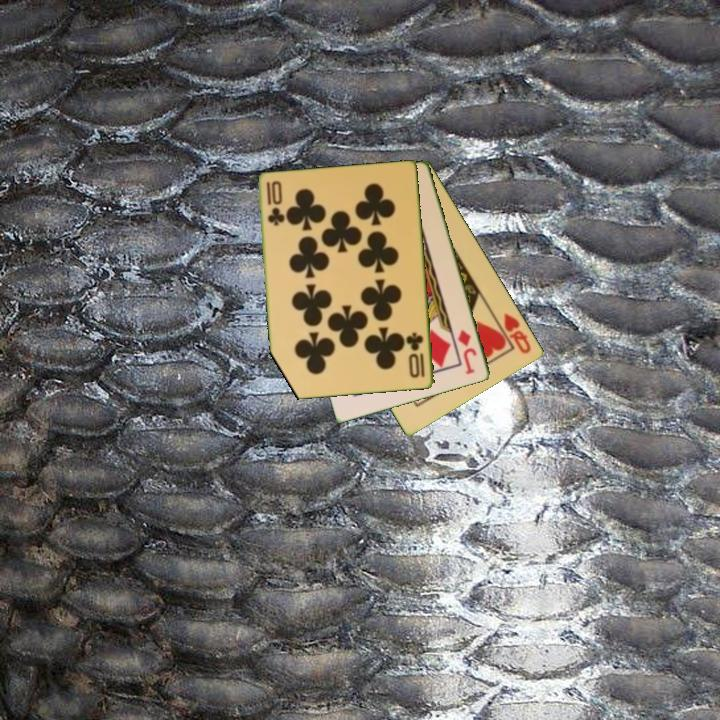10c: (404, 329, 428, 381), (263, 178, 286, 229)
Jd: (454, 326, 480, 377)
Qh: (492, 309, 534, 357)
